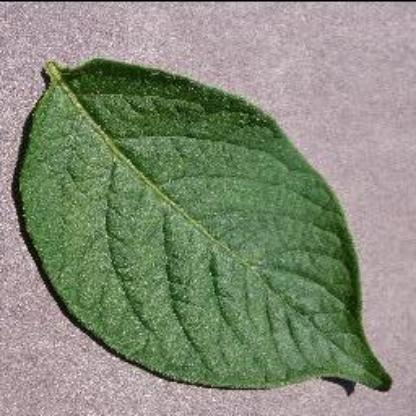Healthy-plant: (5, 49, 400, 409)
